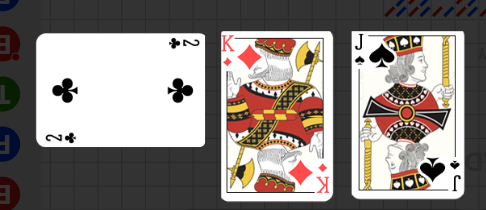2C: (44, 130, 79, 144)
JS: (353, 33, 397, 80), (420, 154, 464, 200)
KD: (316, 162, 331, 195)
